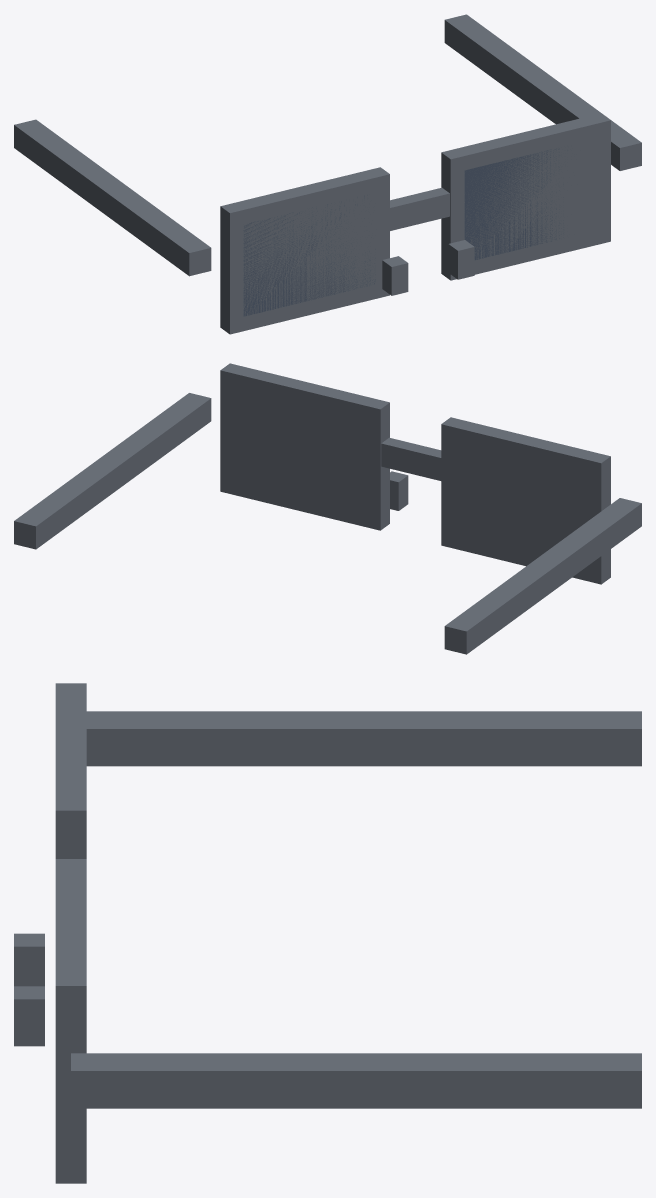
File: hexgraphite.glb
The picture shows the model from 3 angles, top to bottom: view 1: azimuth 30°, elevation 25°; view 2: azimuth 150°, elevation 25°; view 3: azimuth 270°, elevation 25°; orthographic projection. The views are drawn at different scales.
Parts seen in each view (by area): view 1: hex-graphite; view 2: hex-graphite; view 3: hex-graphite.
Part boxes in pixels (x1,y1,x2,y2): hex-graphite: (14, 14, 641, 334); hex-graphite: (14, 363, 641, 654); hex-graphite: (14, 683, 641, 1183).
Bounding box in the file's own units: 1.64 × 0.42 × 1.21.
